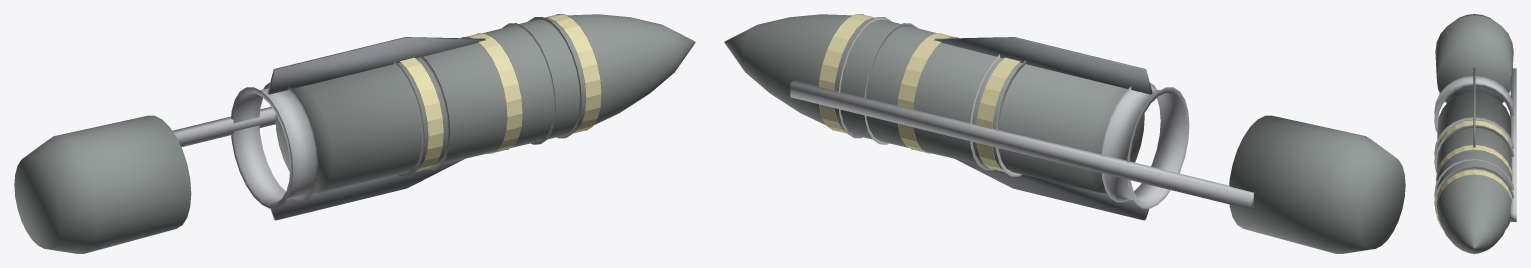
The model's file is CN_SLBM_JL3_LOD1.fbx.
The picture shows the model from 3 angles, left to right: view 1: azimuth 30°, elevation 25°; view 2: azimuth 150°, elevation 25°; view 3: azimuth 270°, elevation 25°; orthographic projection. The views are drawn at different scales.
Visible parts, largest first — view 1: WPN_CN_SLBM_JL3_LOD1_Body, WPN_CN_SLBM_JL3_LOD1_Tail, WPN_CN_SLBM_JL3_LOD1_Detail, WPN_CN_SLBM_JL3_LOD1_Marking; view 2: WPN_CN_SLBM_JL3_LOD1_Body, WPN_CN_SLBM_JL3_LOD1_Detail, WPN_CN_SLBM_JL3_LOD1_Tail, WPN_CN_SLBM_JL3_LOD1_Marking; view 3: WPN_CN_SLBM_JL3_LOD1_Body, WPN_CN_SLBM_JL3_LOD1_Tail, WPN_CN_SLBM_JL3_LOD1_Detail, WPN_CN_SLBM_JL3_LOD1_Marking.
Part boxes in pixels (left/top/right/bottom): WPN_CN_SLBM_JL3_LOD1_Body: left=275, top=14, right=695, bottom=193; WPN_CN_SLBM_JL3_LOD1_Tail: left=14, top=115, right=191, bottom=253; WPN_CN_SLBM_JL3_LOD1_Detail: left=172, top=17, right=581, bottom=220; WPN_CN_SLBM_JL3_LOD1_Marking: left=399, top=14, right=601, bottom=171; WPN_CN_SLBM_JL3_LOD1_Body: left=724, top=14, right=1144, bottom=193; WPN_CN_SLBM_JL3_LOD1_Detail: left=790, top=17, right=1253, bottom=220; WPN_CN_SLBM_JL3_LOD1_Tail: left=1229, top=115, right=1405, bottom=253; WPN_CN_SLBM_JL3_LOD1_Marking: left=818, top=14, right=1020, bottom=171; WPN_CN_SLBM_JL3_LOD1_Body: left=1436, top=92, right=1511, bottom=253; WPN_CN_SLBM_JL3_LOD1_Tail: left=1435, top=14, right=1513, bottom=103; WPN_CN_SLBM_JL3_LOD1_Detail: left=1434, top=67, right=1516, bottom=221; WPN_CN_SLBM_JL3_LOD1_Marking: left=1435, top=120, right=1512, bottom=228.
Size of the model in its own units: 14 by 2.37 by 3.06.
